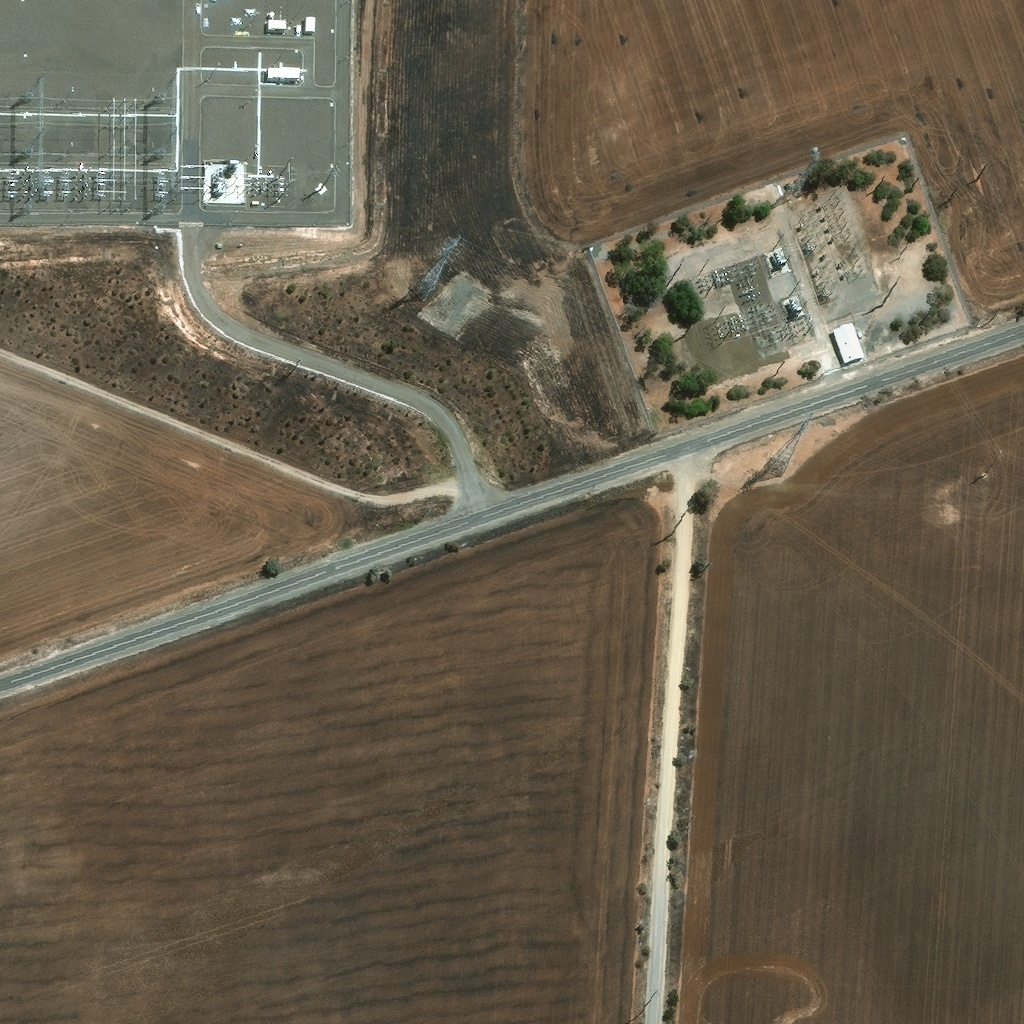0 no-damage: (839, 331, 871, 373)
